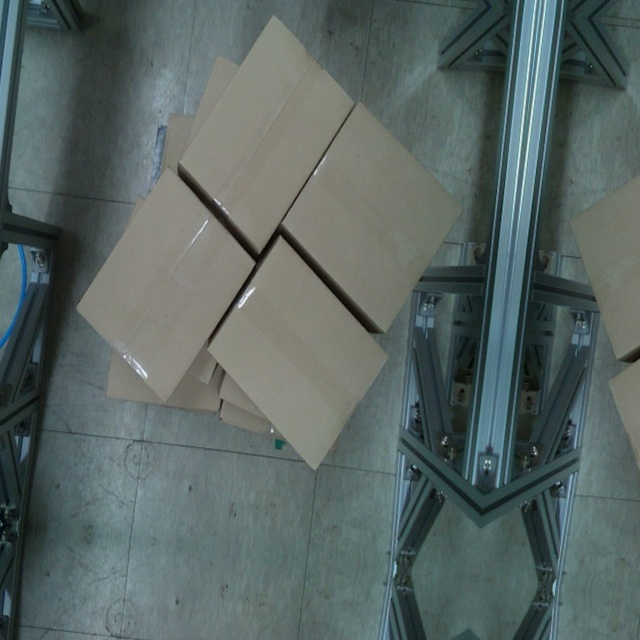box: (201, 228, 396, 476), (275, 93, 469, 338), (173, 10, 359, 260), (71, 166, 263, 407)
